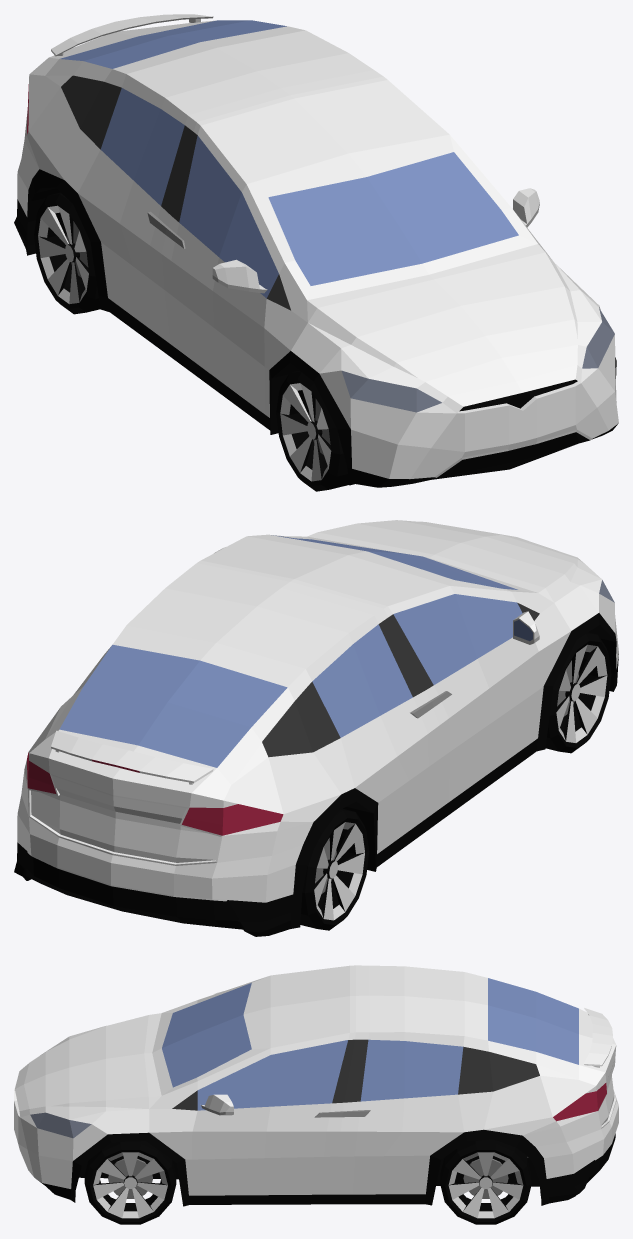
The model's file is Car.fbx.
3 views of the same model, one above another, from view 1: azimuth 30°, elevation 25°; view 2: azimuth 150°, elevation 25°; view 3: azimuth 270°, elevation 25° (orthographic). The views are drawn at different scales.
Visible parts, largest first — view 1: Car, DoorRR, Windscreen, DoorFR, WindowFR, DoorRL, TyreFR, WindowRR, TyreRR, RearWindow, Trunk, DoorFL; view 2: Car, DoorRR, Trunk, RearWindow, DoorFR, DoorRL, WindowFR, WindowRR, TyreRR, TyreFR, Windscreen; view 3: Car, DoorRL, DoorFL, WindowFL, TyreRL, TyreFL, Windscreen, RearWindow, WindowRL, Trunk, DoorRR.
Part boxes in pixels (bbox=[...]): Car: bbox=[14, 74, 618, 487]; DoorRR: bbox=[64, 42, 289, 343]; Windscreen: bbox=[268, 152, 518, 285]; DoorFR: bbox=[161, 132, 267, 414]; WindowFR: bbox=[179, 135, 278, 298]; DoorRL: bbox=[200, 26, 383, 95]; TyreFR: bbox=[276, 370, 349, 491]; WindowRR: bbox=[100, 88, 184, 205]; TyreRR: bbox=[34, 192, 100, 314]; RearWindow: bbox=[60, 20, 286, 68]; Trunk: bbox=[30, 14, 214, 81]; DoorFL: bbox=[513, 188, 539, 227]; Car: bbox=[14, 520, 618, 936]; DoorRR: bbox=[200, 582, 440, 853]; Trunk: bbox=[27, 647, 294, 865]; RearWindow: bbox=[59, 644, 287, 767]; DoorFR: bbox=[388, 611, 539, 808]; DoorRL: bbox=[113, 563, 289, 660]; WindowFR: bbox=[393, 594, 522, 684]; WindowRR: bbox=[312, 624, 412, 737]; TyreRR: bbox=[300, 808, 369, 930]; TyreFR: bbox=[545, 632, 611, 753]; Windscreen: bbox=[271, 535, 517, 589]; Car: bbox=[14, 965, 618, 1206]; DoorRL: bbox=[334, 995, 493, 1194]; DoorFL: bbox=[191, 1039, 354, 1195]; WindowFL: bbox=[197, 1040, 347, 1110]; TyreRL: bbox=[440, 1139, 531, 1224]; TyreFL: bbox=[84, 1141, 176, 1224]; Windscreen: bbox=[162, 983, 251, 1087]; RearWindow: bbox=[488, 978, 578, 1064]; WindowRL: bbox=[360, 1039, 463, 1101]; Trunk: bbox=[488, 1008, 616, 1128]; DoorRR: bbox=[356, 965, 487, 1005].
Bounding box in the file's own units: 2.27 × 1.66 × 5.04.
